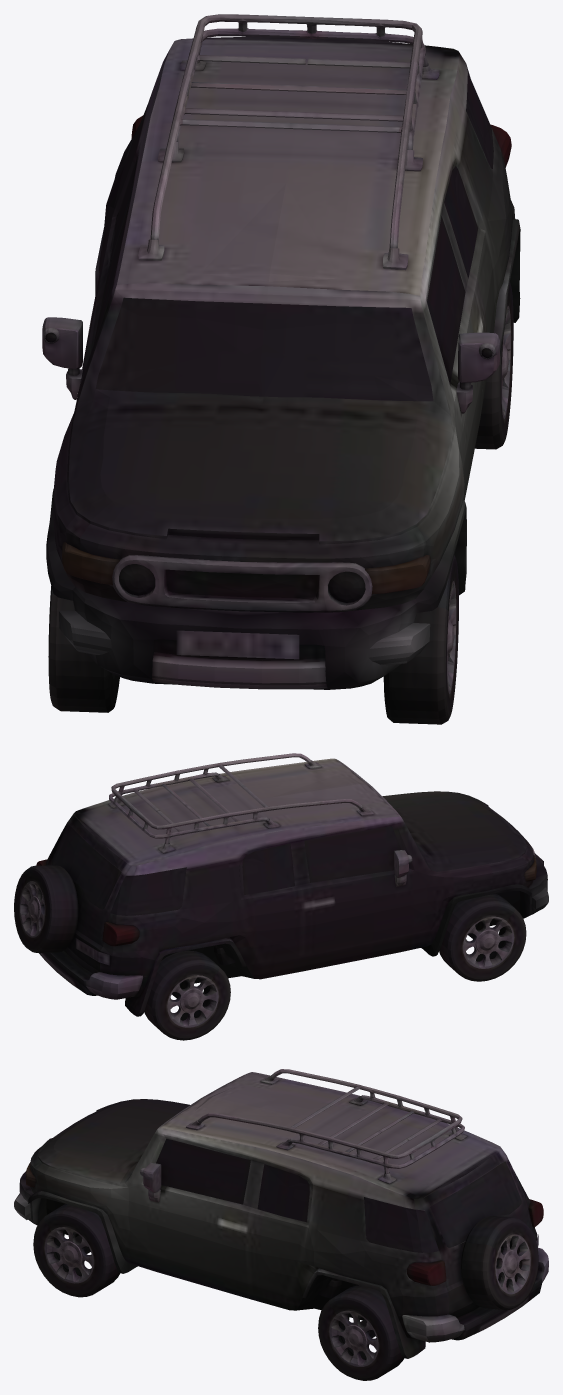
The model's file is LOKI_MOBILE.glb.
The picture shows the model from 3 angles, top to bottom: view 1: azimuth 30°, elevation 25°; view 2: azimuth 150°, elevation 25°; view 3: azimuth 270°, elevation 25°; orthographic projection. The views are drawn at different scales.
Parts seen in each view (by area): view 1: Object_4; view 2: Object_4; view 3: Object_4.
Part boxes in pixels (x1,y1,x2,y2): Object_4: [42, 14, 520, 724]; Object_4: [14, 753, 548, 1040]; Object_4: [14, 1069, 548, 1380].
Bounding box in the file's own units: 3.38 × 1.76 × 4.
Materials: 1 (1 with a texture image).
